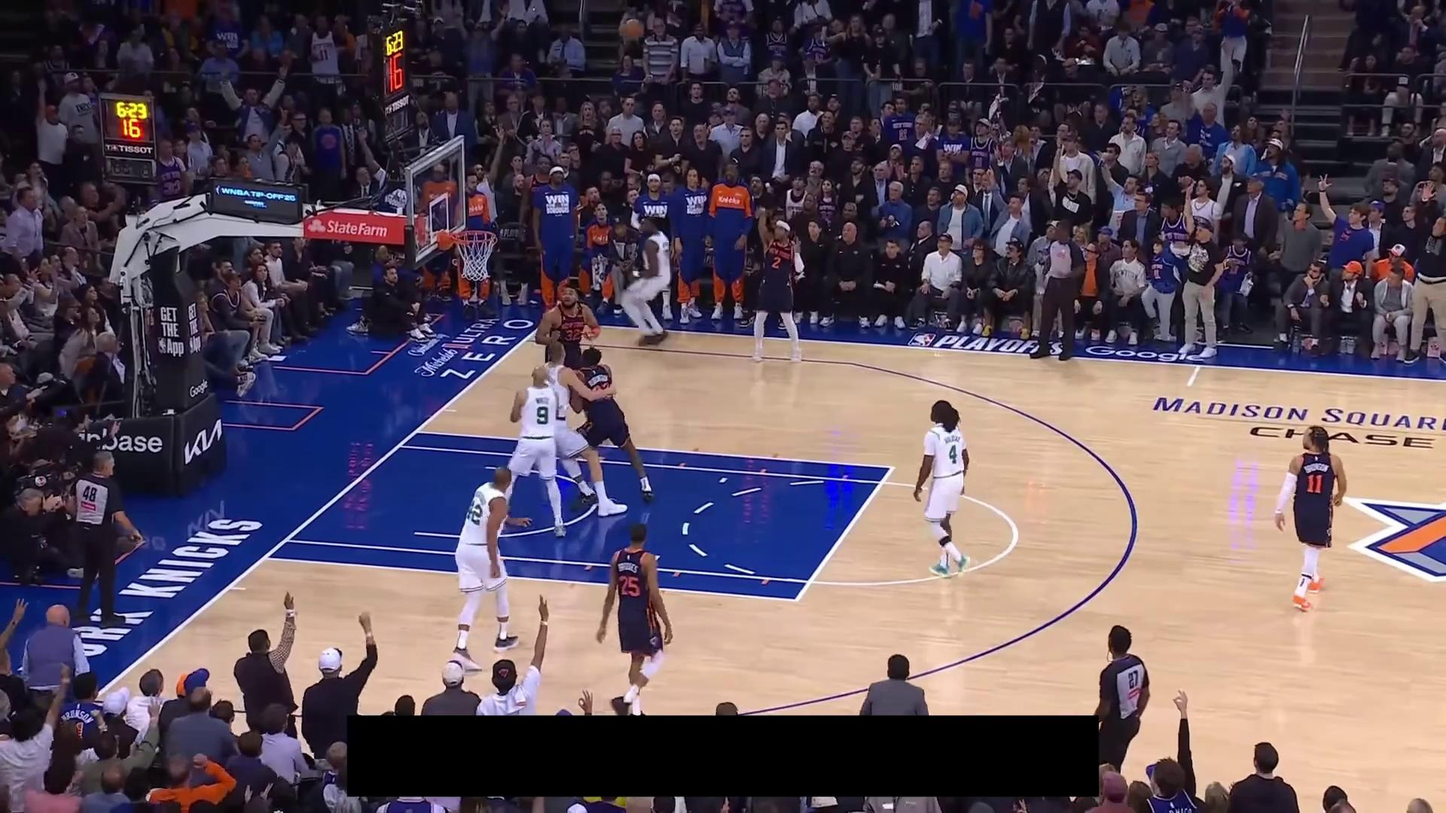ball: (620, 18, 645, 41)
number: (618, 575, 640, 597), (467, 503, 484, 526), (1306, 473, 1323, 495), (535, 405, 550, 425), (565, 327, 582, 341), (948, 444, 959, 464), (771, 256, 782, 269)
player: (445, 464, 532, 671), (538, 340, 628, 517), (594, 522, 676, 715), (560, 347, 655, 513), (1273, 424, 1348, 614), (497, 365, 568, 537), (912, 400, 972, 580), (748, 207, 807, 364), (618, 214, 676, 346), (531, 281, 603, 369)
referee: (66, 449, 144, 628), (1027, 219, 1093, 361), (1094, 625, 1151, 775)
rim: (452, 229, 498, 245)
